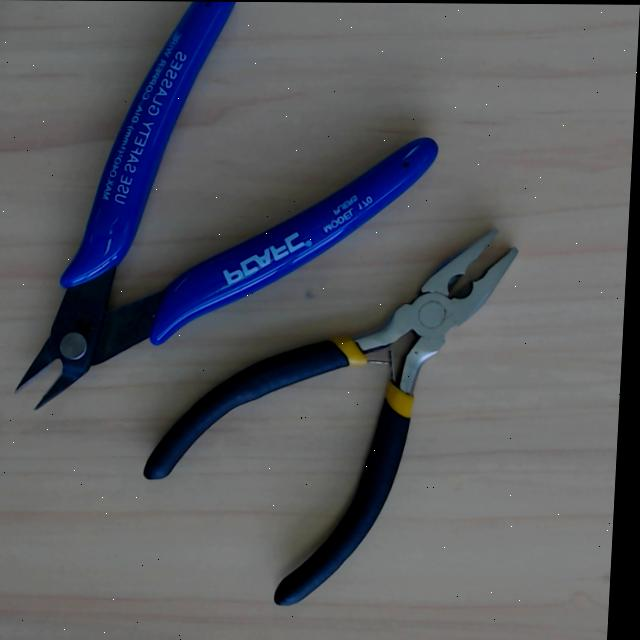Tang-Jepit-Hitam: (134, 164, 585, 618)
